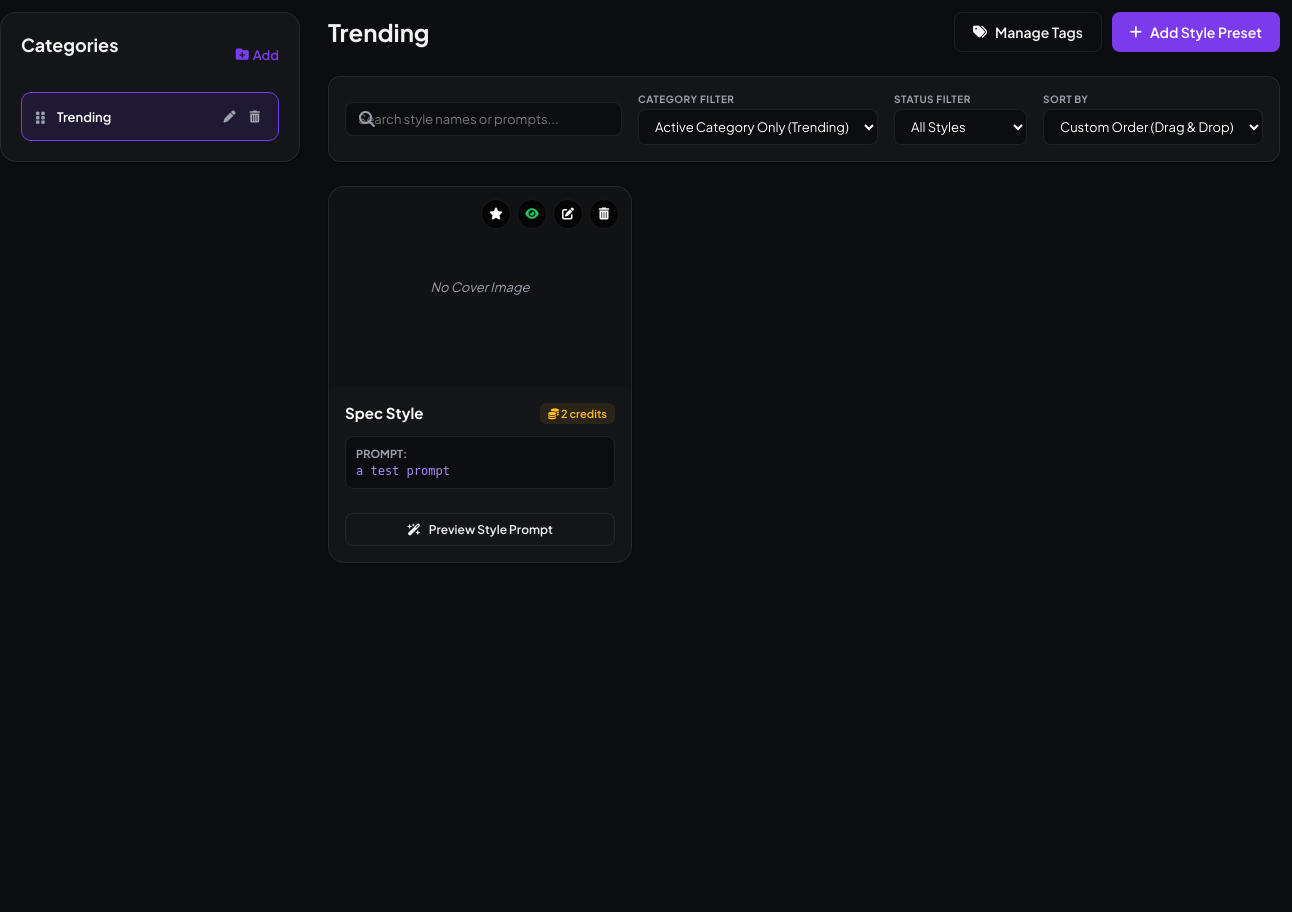
Test: StyleManagerPage - quick toggle actions (Trending / Enable-Disable) › toggles enabled via PATCH, shows the Disabled badge and a success toast
The image size is (1292, 912).
Expected: the heading "Spec Style" is shown, [345, 403, 423, 422]
Click the button titled "Disable Style".
click(532, 214)  # box [517, 199, 547, 229]
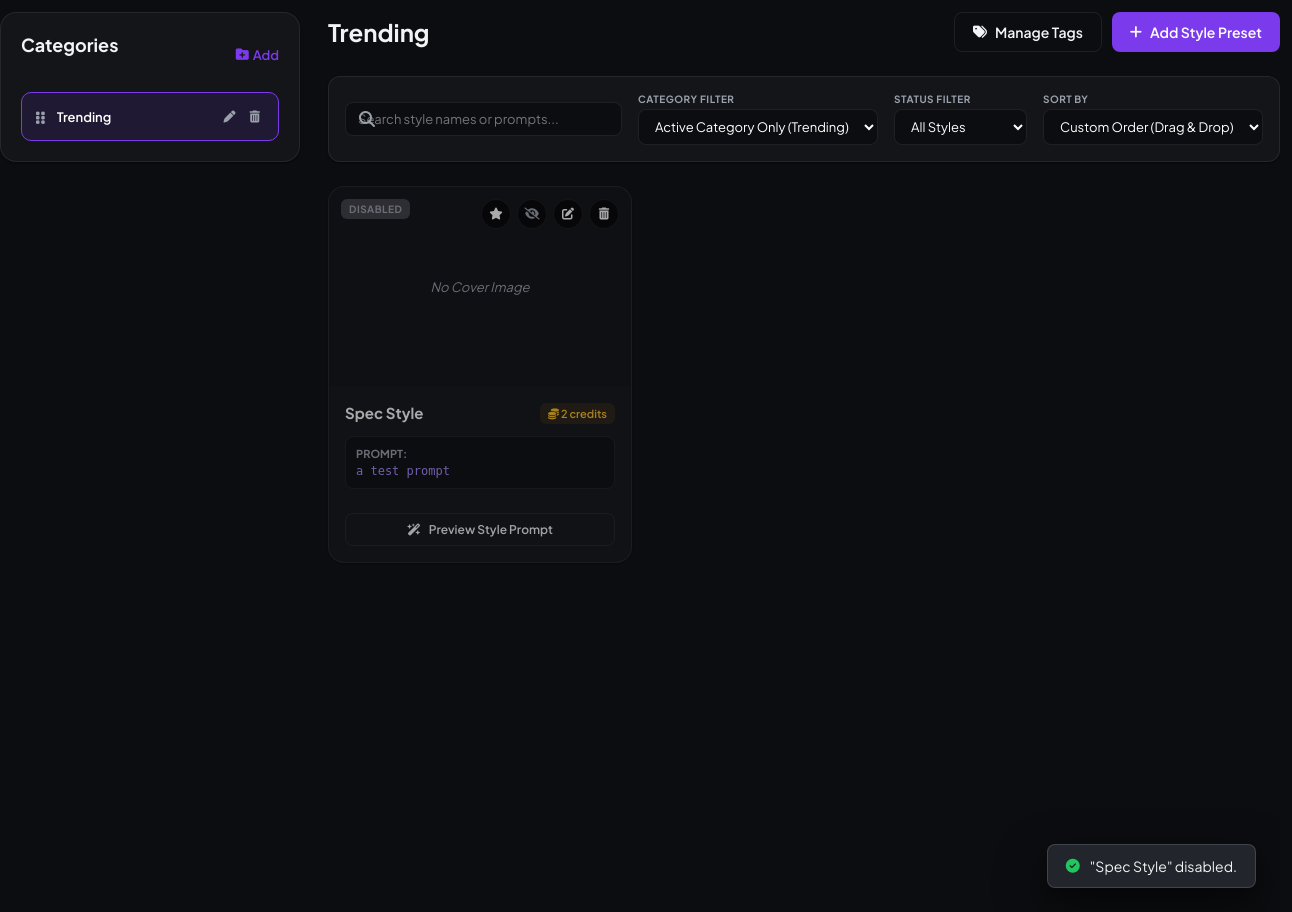
Result: the text "Disabled" is shown at [341, 199, 410, 219]
Result: the text "\"Spec Style\" disabled." is shown at [1090, 857, 1237, 875]
